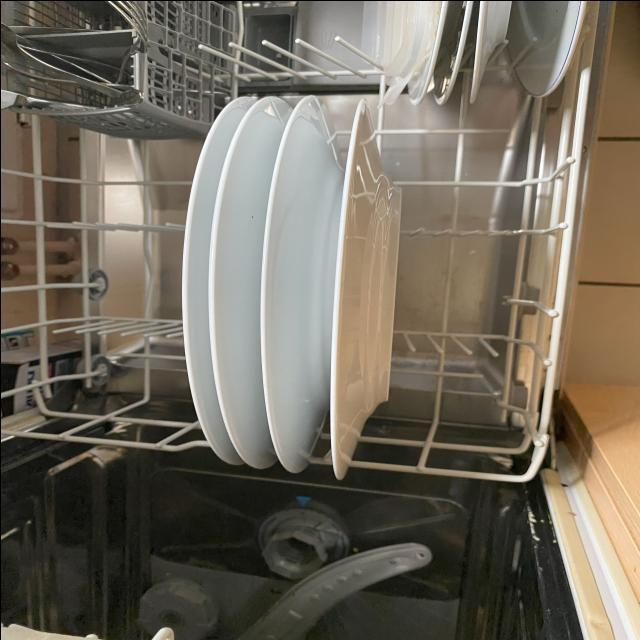clutery_bin: (14, 4, 151, 126)
empty_slot: (408, 130, 546, 447), (38, 147, 174, 436)
